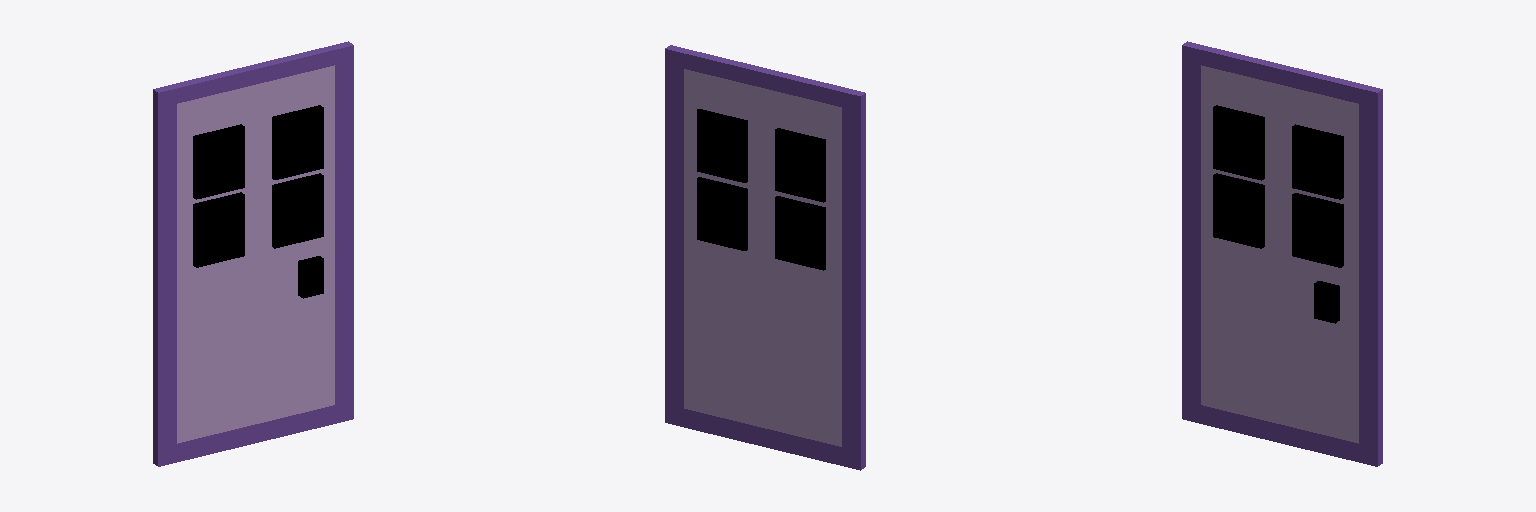
3 renders of one model, left to right at view 1: azimuth 30°, elevation 25°; view 2: azimuth 150°, elevation 25°; view 3: azimuth 330°, elevation 25°, orthographic.
Visible parts, largest first — view 1: puerta:polySurface4; view 2: puerta:polySurface4; view 3: puerta:polySurface4.
Part boxes in pixels (left/top/right/bottom): puerta:polySurface4: left=153, top=41, right=353, bottom=466; puerta:polySurface4: left=665, top=45, right=865, bottom=470; puerta:polySurface4: left=1182, top=41, right=1382, bottom=466.
Bounding box in the file's own units: 2.14 × 3.91 × 0.284.
5 materials, 4 textured.